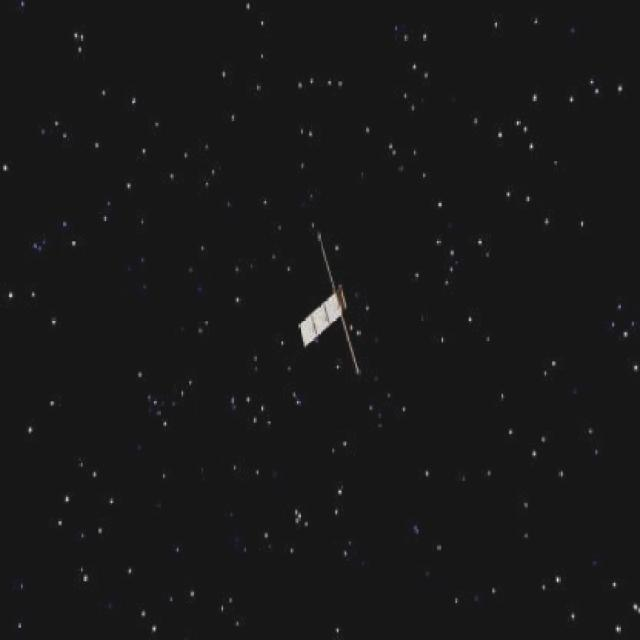satellite: (290, 223, 370, 394)
